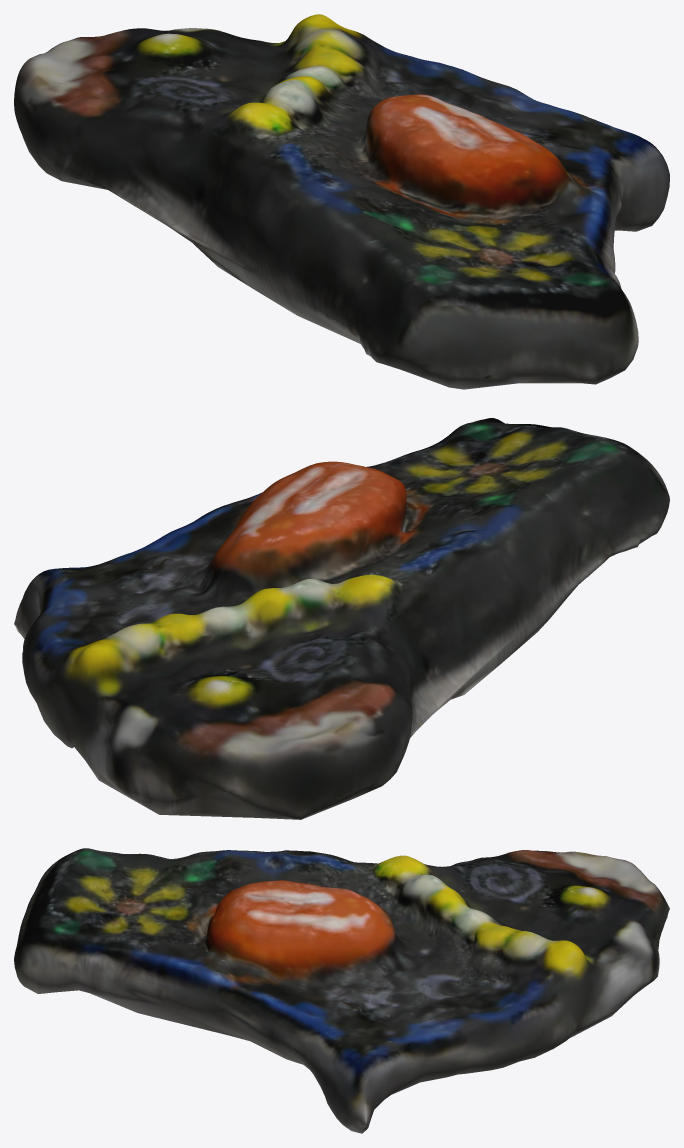
3 views of the same model, one above another, from view 1: azimuth 30°, elevation 25°; view 2: azimuth 150°, elevation 25°; view 3: azimuth 270°, elevation 25° (orthographic). The views are drawn at different scales.
Size of the model in its own units: 0.4258 by 0.1558 by 0.6258.
1 material, 1 textured.
